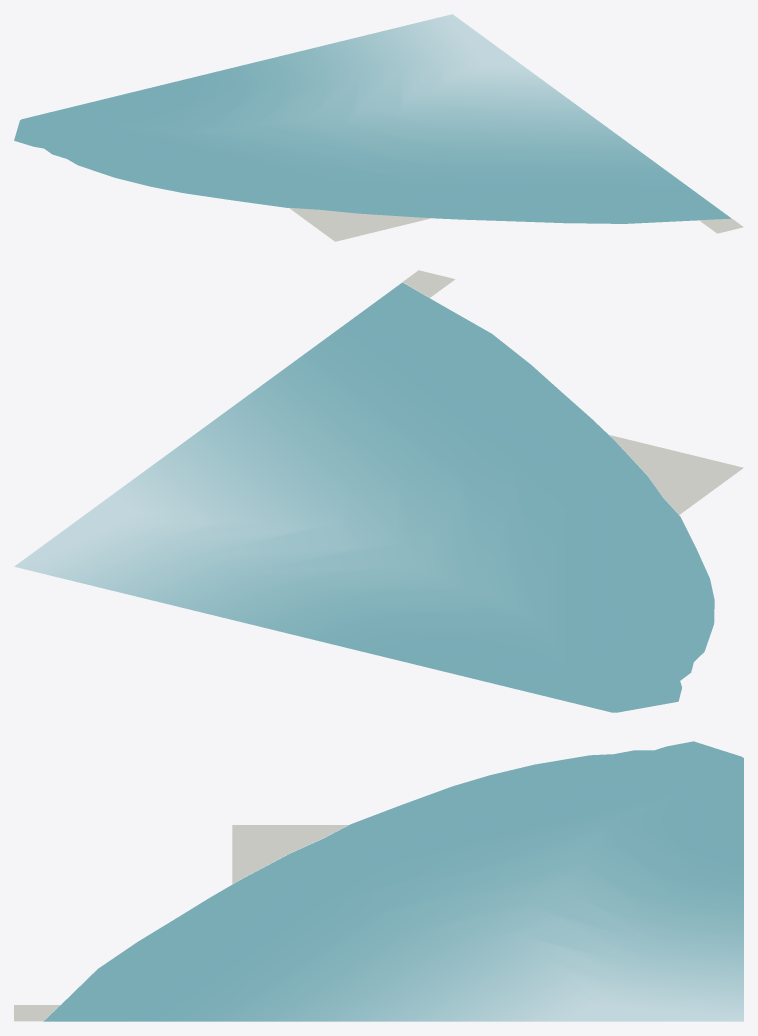
3 renders of one model, top to bottom at view 1: azimuth 30°, elevation 25°; view 2: azimuth 150°, elevation 25°; view 3: azimuth 270°, elevation 25°, orthographic. The views are drawn at different scales.
Parts seen in each view (by area): view 1: city; view 2: city; view 3: city.
Part boxes in pixels (bbox=[...]): city: bbox=[14, 14, 743, 241]; city: bbox=[14, 270, 743, 712]; city: bbox=[14, 741, 743, 1021].
Bounding box in the file's own units: 389 × 0.18 × 428.
